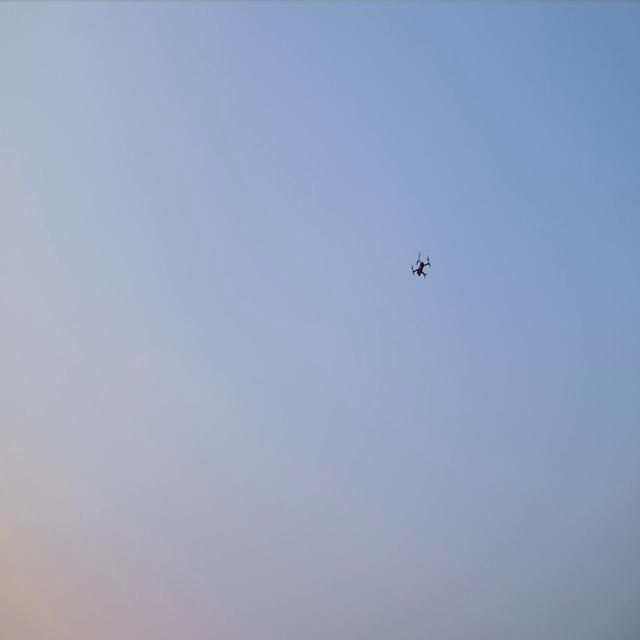UAV: (412, 256, 429, 276)
